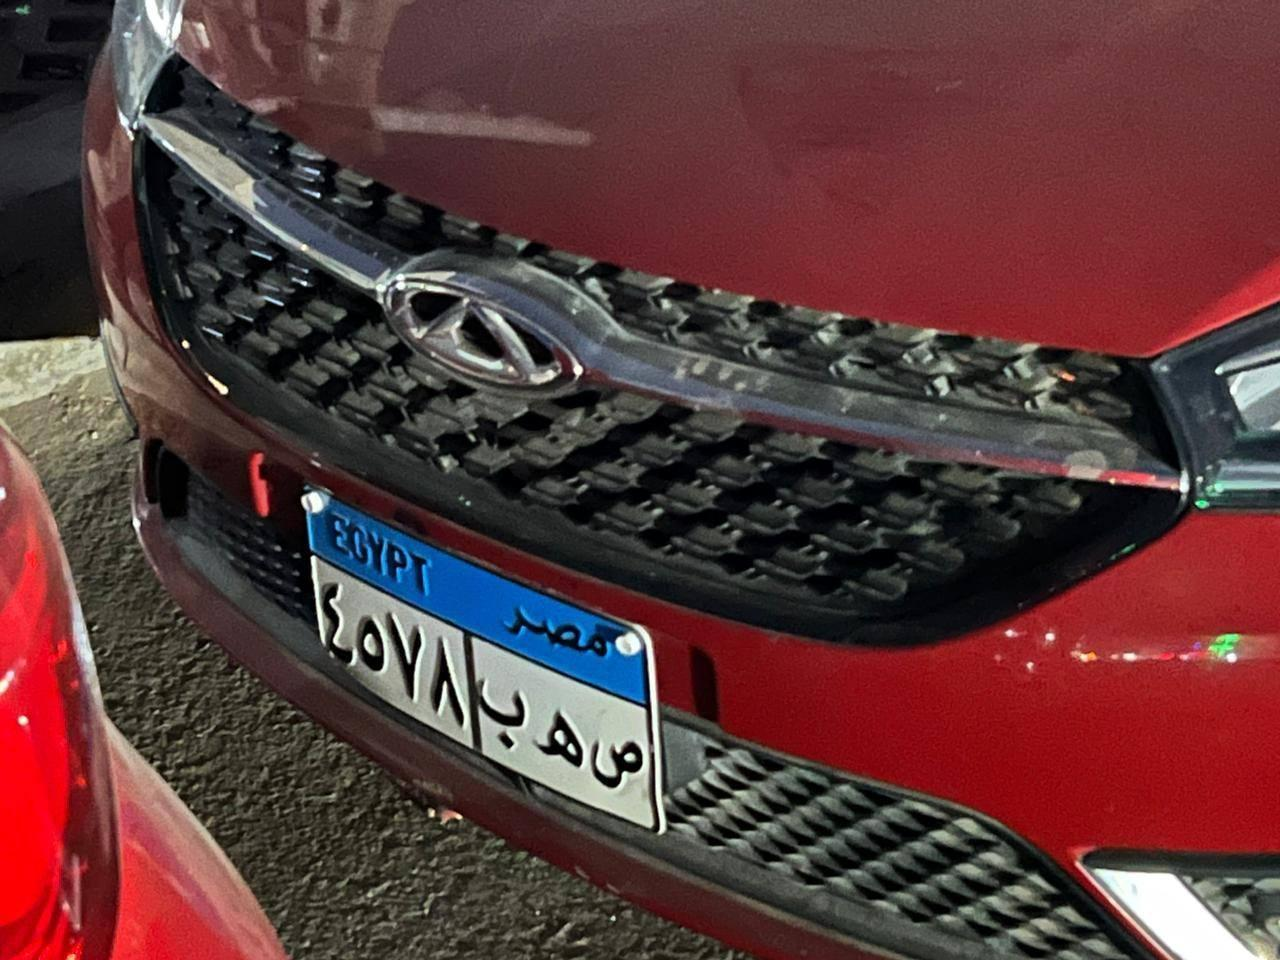4: (314, 575, 354, 665)
5: (354, 609, 385, 667)
7: (383, 605, 428, 700)
8: (426, 625, 468, 721)
Heeh: (530, 706, 584, 779)
License Plate: (302, 492, 650, 836)
Saad: (586, 726, 648, 790)
baa: (474, 674, 527, 748)
